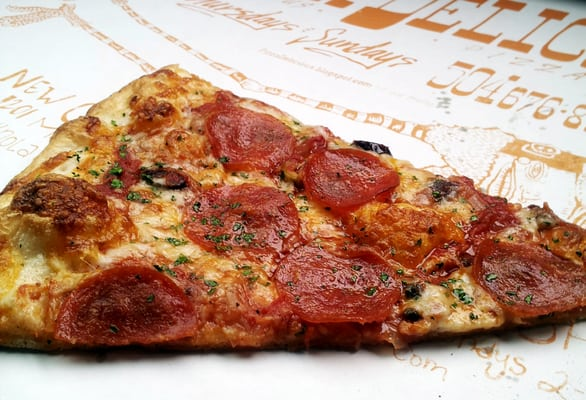sandwich: (0, 65, 586, 354)
